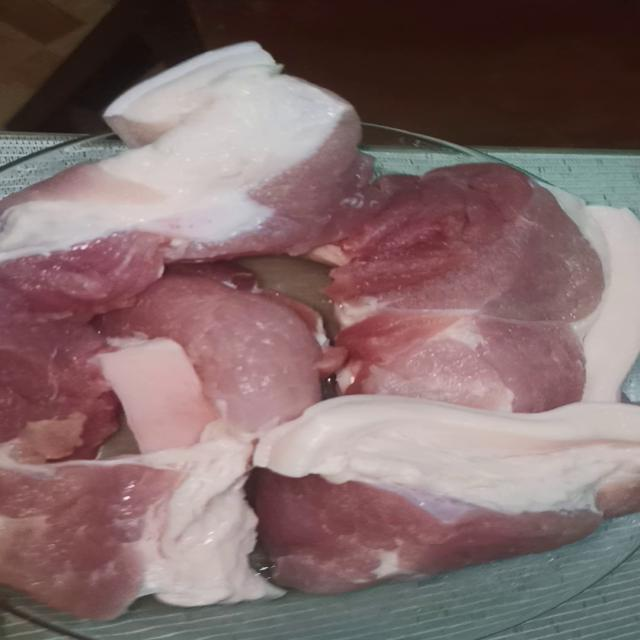pork: (0, 33, 305, 287), (266, 398, 640, 573), (344, 133, 619, 350), (0, 426, 269, 640), (258, 288, 640, 437), (0, 252, 326, 422)
